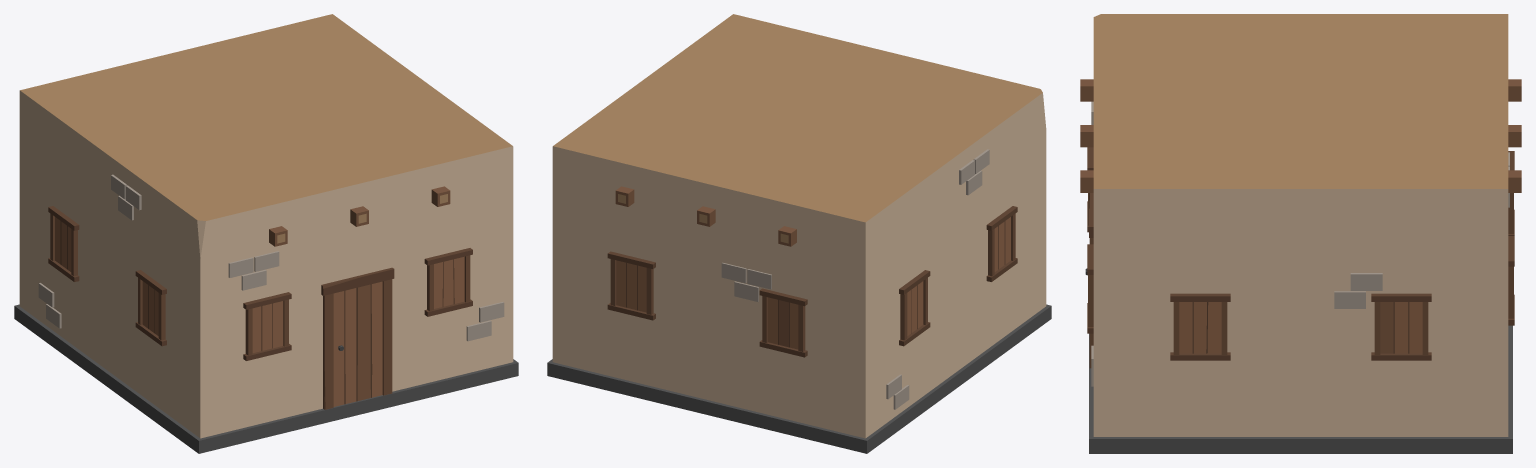
The model's file is building_01.gltf.
3 views of the same model, side by side, from view 1: azimuth 30°, elevation 25°; view 2: azimuth 150°, elevation 25°; view 3: azimuth 270°, elevation 25° (orthographic). The views are drawn at different scales.
Parts seen in each view (by area): view 1: Building_01; view 2: Building_01; view 3: Building_01.
Part boxes in pixels (x1,y1,x2,y2): Building_01: (14,14,518,453); Building_01: (547,14,1051,453); Building_01: (1080,14,1521,453).
Bounding box in the file's own units: 5.16 × 3.5 × 5.33.
1 material, 1 textured.
